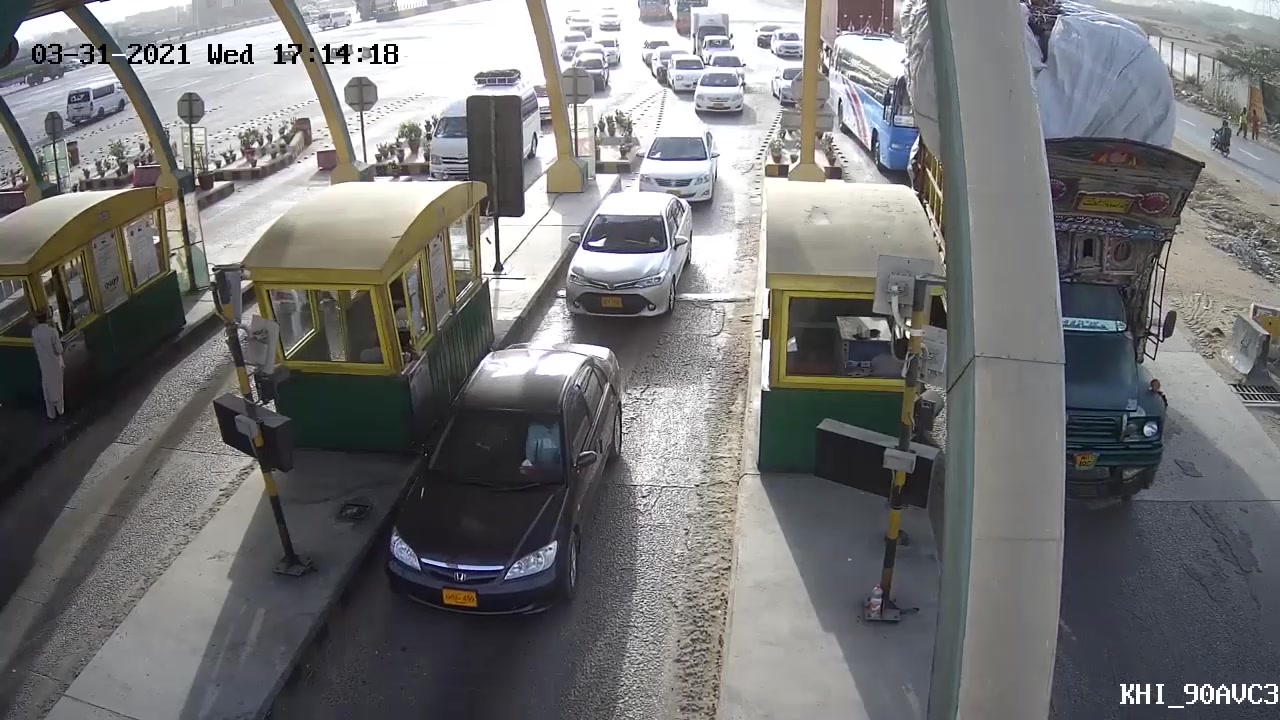F1: (387, 336, 621, 617), (564, 190, 703, 327), (631, 122, 719, 207)
